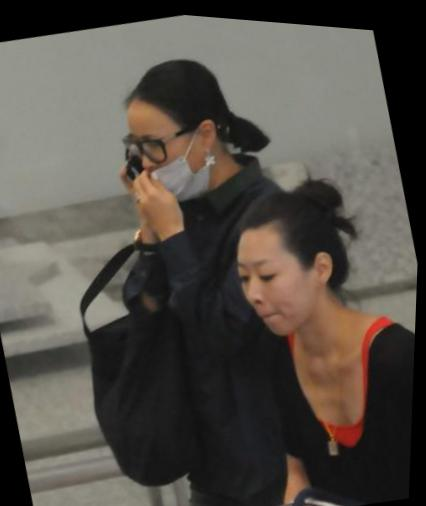NONE: (233, 240, 336, 345)
WRONG: (117, 110, 214, 210)
